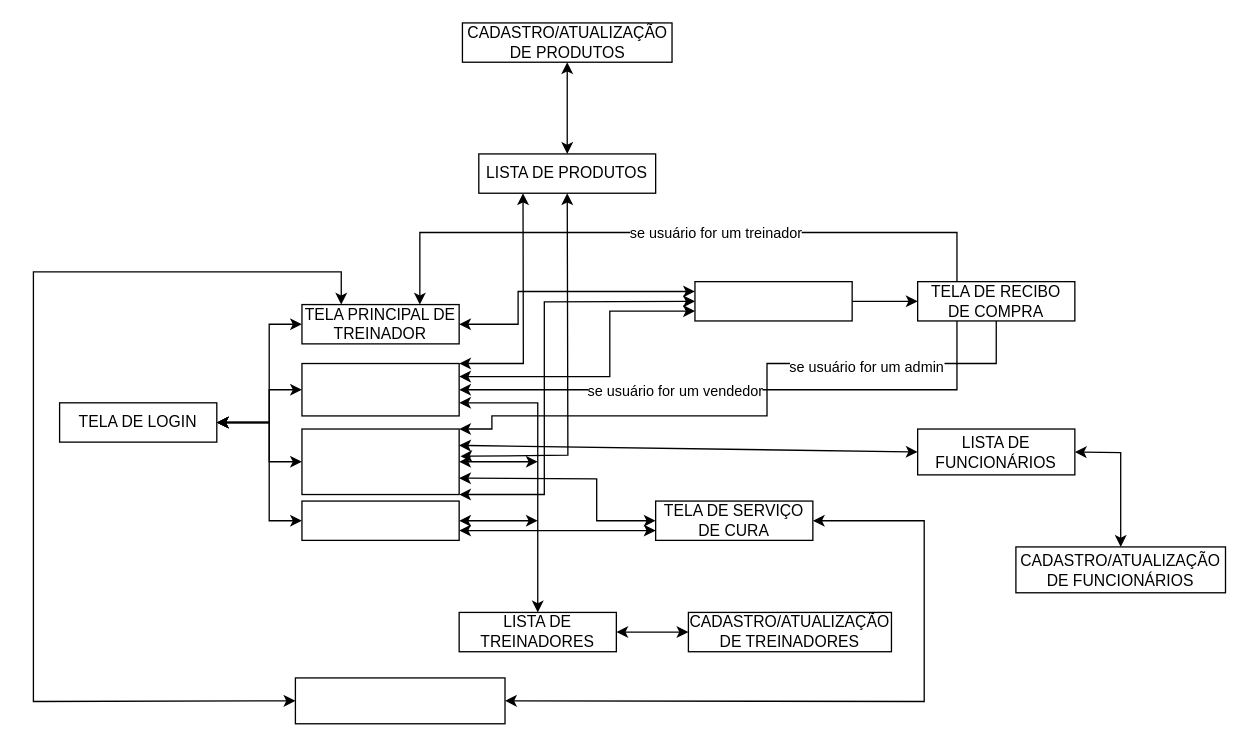
This 1248x747 diagram has some shape labels left out. Each missing label, with the centre of its shape:
"LOJA DE ITENS" goes at point (773, 300).
"TELA DE HISTÓRICO DE CURAS DO TREINADOR" goes at point (399, 700).
"TELA PRINCIPAL DAS ENFERMEIRAS" goes at point (380, 520).
"TELA PRINCIPAL DO ADIMINISTRADOR" goes at point (380, 461).
"TELA PRINCIPAL DOS VENDEDORES" goes at point (380, 389).
